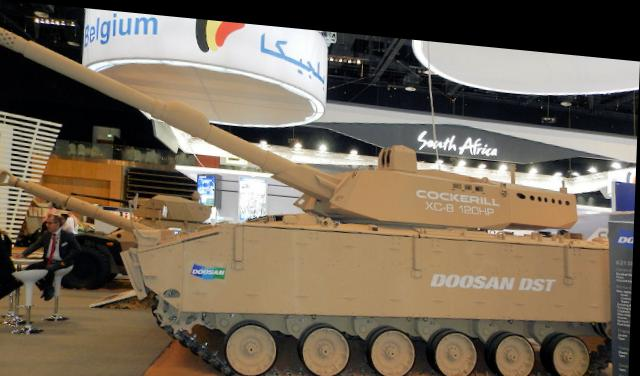tank: (123, 134, 635, 374)
